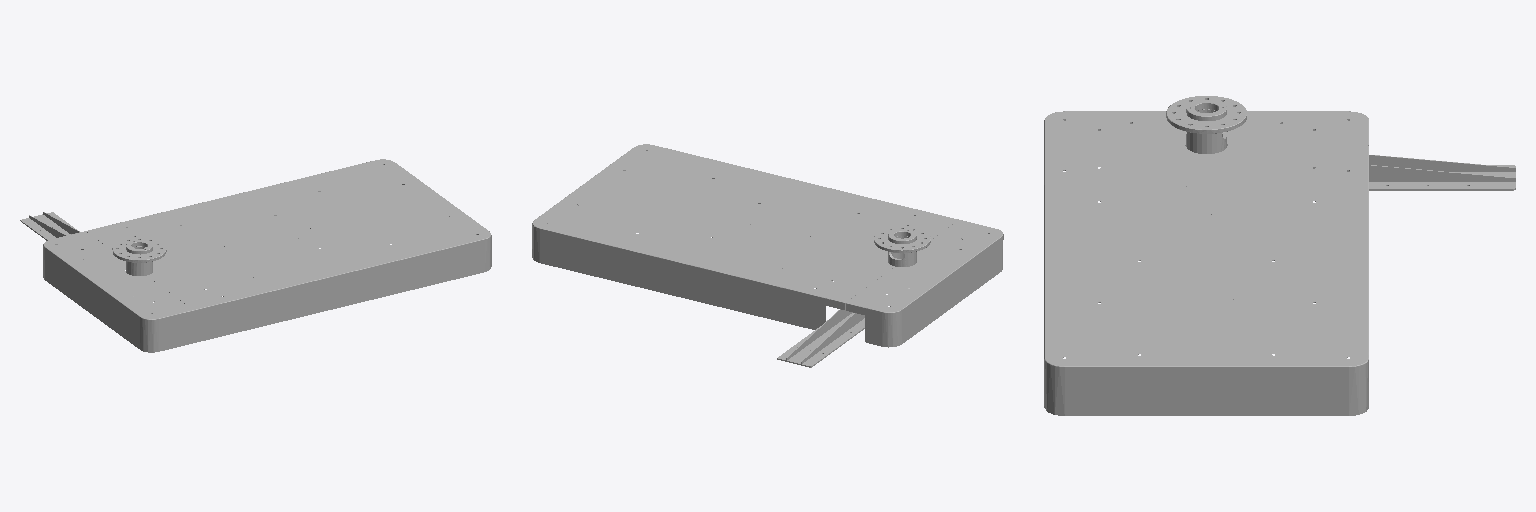
URDF robot description (zhijia):
<?xml version="1.0" encoding="utf-8"?>
<!-- This URDF was automatically created by SolidWorks to URDF Exporter! Originally created by [author] ([email redacted]) 
     Commit Version: 1.6.0-1-g15f4949  Build Version: 1.6.7594.29634
     For more information, please see http://wiki.ros.org/sw_urdf_exporter -->
<robot
  name="zhijia">
  <link
    name="base_zhijia">
    <inertial>
      <origin
        xyz="0.304179491555336 0.0686251823387179 -0.0130485805192313"
        rpy="0 0 0" />
      <mass
        value="25.9782112884737" />
      <inertia
        ixx="1.20232559632263"
        ixy="-0.0147149695170033"
        ixz="0.0262014110830567"
        iyy="1.82332477464825"
        iyz="-0.00192368969820329"
        izz="2.92847446441549" />
    </inertial>
    <visual>
      <origin
        xyz="0 0 0"
        rpy="0 0 0" />
      <geometry>
        <mesh
          filename="package://zhijia/meshes/base_zhijia.STL" />
      </geometry>
      <material
        name="">
        <color
          rgba="0.752941176470588 0.752941176470588 0.752941176470588 1" />
      </material>
    </visual>
    <collision>
      <origin
        xyz="0 0 0"
        rpy="0 0 0" />
      <geometry>
        <mesh
          filename="package://zhijia/meshes/base_zhijia.STL" />
      </geometry>
    </collision>
  </link>
</robot>

--- Render facts (derived) ---
Views: 3 orthographic renders of the robot side by side, from view 1: azimuth 30°, elevation 25°; view 2: azimuth 150°, elevation 25°; view 3: azimuth 270°, elevation 25°.
Model zhijia with 1 links and 0 joints (none), rooted at base_zhijia, posed all joints at 0.
Visible links, largest first — view 1: base_zhijia; view 2: base_zhijia; view 3: base_zhijia.
Boxes of the visible links, x1,y1,x2,y2 form: base_zhijia: (20,159,491,352); base_zhijia: (532,144,1003,367); base_zhijia: (1044,96,1515,415).
Size in the robot's own frame: 1.49 by 1.16 by 0.237 metres.
1 mesh visuals loaded from 1 distinct referenced files (1 binary STL).
